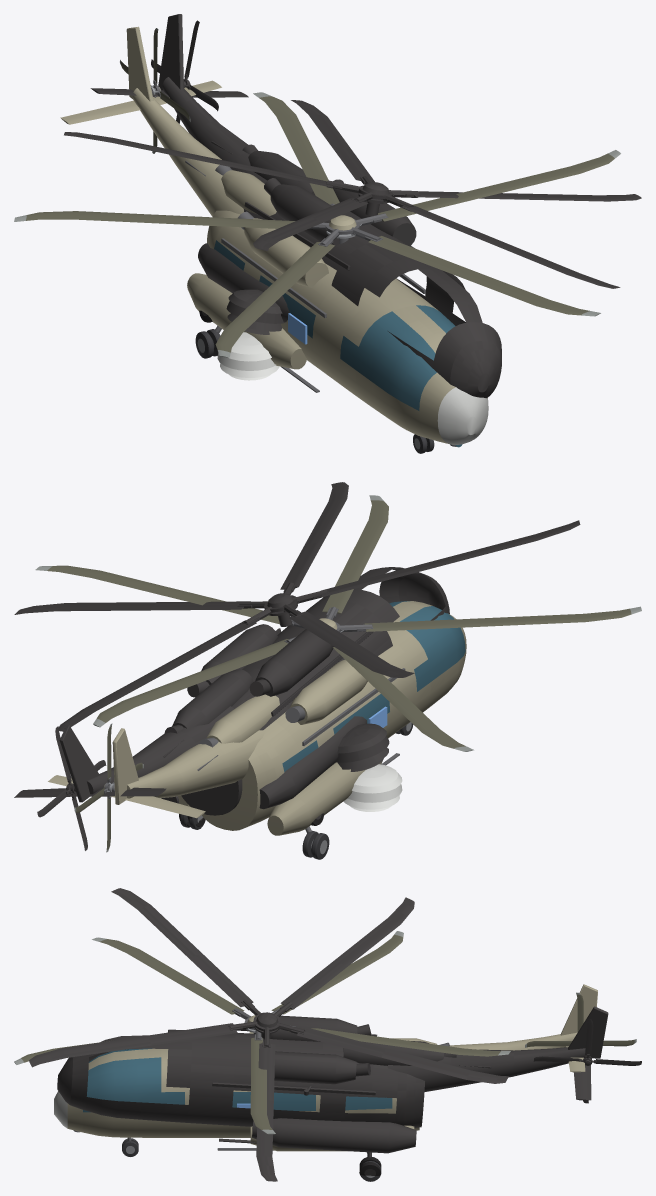
Rendered from aewc__merlin_hm2_crowsnest.glb.
3 renders of one model, top to bottom at view 1: azimuth 30°, elevation 25°; view 2: azimuth 150°, elevation 25°; view 3: azimuth 270°, elevation 25°, orthographic. The views are drawn at different scales.
Visible parts, largest first — view 1: Wreck, Fuselage_Mesh, Rotor_Main_Mesh, Engines_Mesh, Radar_Mesh, Landing_Gear_Mesh, Rotor_Tail_Mesh; view 2: Wreck, Fuselage_Mesh, Rotor_Main_Mesh, Engines_Mesh, Radar_Mesh, Landing_Gear_Mesh, Rotor_Tail_Mesh; view 3: Wreck, Fuselage_Mesh, Rotor_Main_Mesh, Rotor_Tail_Mesh, Landing_Gear_Mesh.
Part boxes in pixels (x1,y1,x2,y2): Wreck: [64, 14, 641, 398]; Fuselage_Mesh: [60, 26, 488, 447]; Rotor_Main_Mesh: [14, 92, 620, 357]; Engines_Mesh: [215, 165, 328, 287]; Radar_Mesh: [217, 332, 279, 380]; Landing_Gear_Mesh: [195, 325, 434, 453]; Rotor_Tail_Mesh: [120, 28, 190, 153]; Wreck: [14, 482, 580, 850]; Fuselage_Mesh: [48, 601, 466, 835]; Rotor_Main_Mesh: [35, 495, 641, 751]; Engines_Mesh: [199, 659, 367, 747]; Radar_Mesh: [343, 764, 402, 811]; Landing_Gear_Mesh: [180, 722, 413, 859]; Rotor_Tail_Mesh: [74, 723, 143, 852]; Wreck: [29, 888, 641, 1181]; Fuselage_Mesh: [54, 984, 597, 1151]; Rotor_Main_Mesh: [14, 931, 510, 1134]; Rotor_Tail_Mesh: [525, 992, 636, 1047]; Landing_Gear_Mesh: [122, 1137, 381, 1181].
Size of what is drawn, in the model's own units: 17.86 by 7.89 by 22.46.
